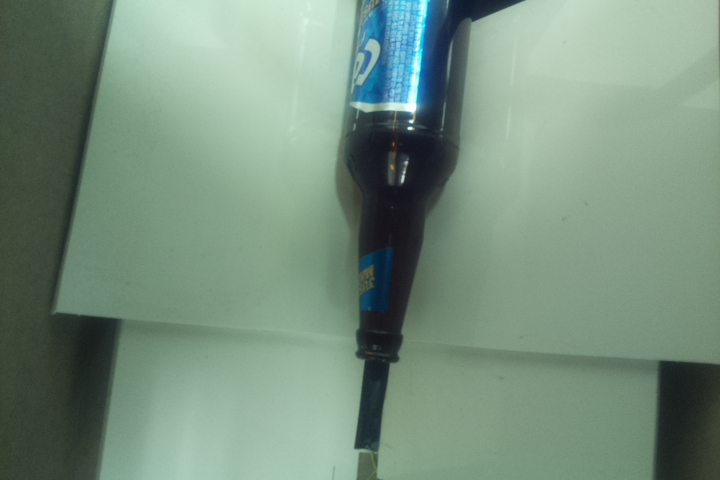makju: (335, 1, 478, 366)
